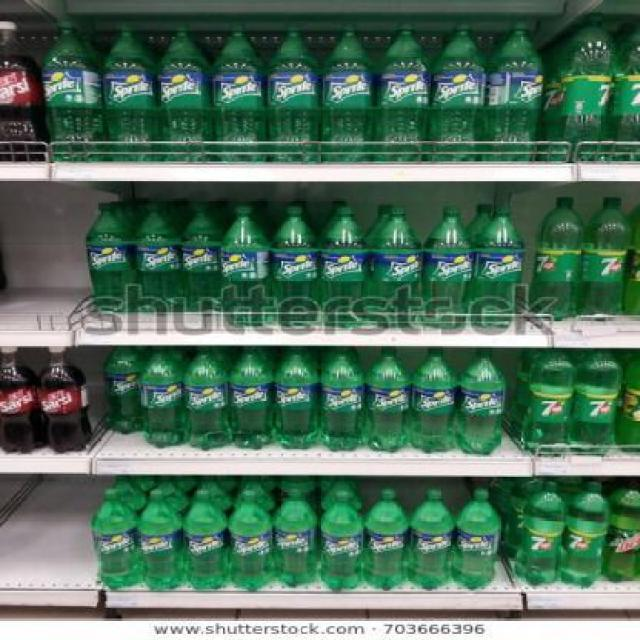Drinks: (548, 11, 618, 162), (41, 21, 101, 161), (374, 21, 432, 161), (100, 22, 158, 161), (431, 20, 487, 162), (488, 20, 543, 162), (318, 22, 372, 162), (212, 24, 266, 162), (266, 26, 320, 162), (160, 22, 212, 161), (530, 198, 584, 319), (473, 206, 527, 326), (420, 206, 474, 326), (368, 206, 421, 328), (272, 205, 321, 328), (221, 204, 270, 327), (585, 197, 633, 321), (521, 348, 577, 454), (320, 206, 369, 326), (457, 347, 508, 456), (86, 202, 136, 313), (135, 201, 182, 313), (515, 482, 563, 588), (564, 482, 611, 590), (578, 348, 625, 452), (272, 346, 318, 451), (226, 345, 272, 450), (412, 347, 458, 451), (182, 488, 228, 592), (366, 347, 412, 451), (318, 347, 364, 451), (91, 488, 137, 590), (137, 490, 183, 592), (227, 490, 273, 592), (318, 490, 364, 592), (364, 488, 410, 590), (411, 488, 457, 590), (456, 488, 502, 590), (272, 487, 318, 587), (185, 344, 226, 450), (183, 203, 222, 314), (143, 346, 185, 448), (102, 344, 144, 436)
